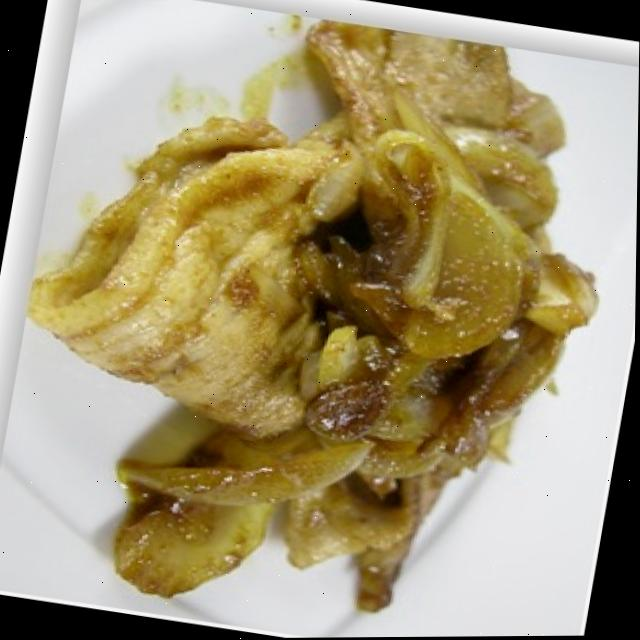猪肉菜式: (0, 4, 628, 640)
